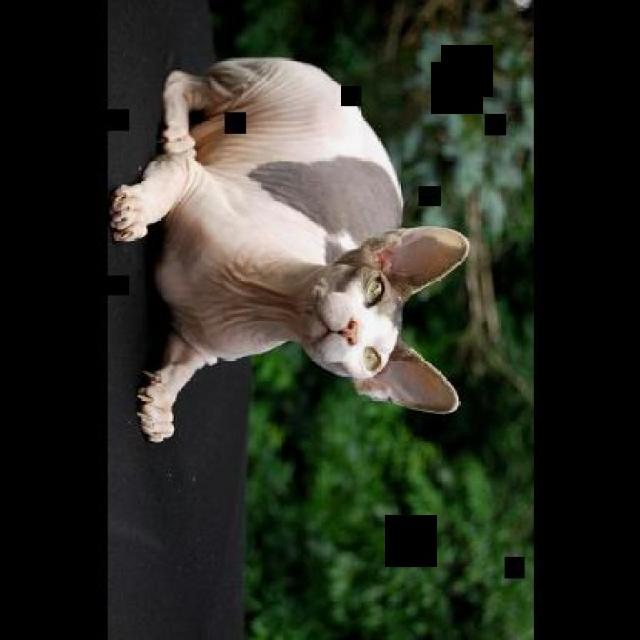unauthorized: (108, 54, 469, 443)
